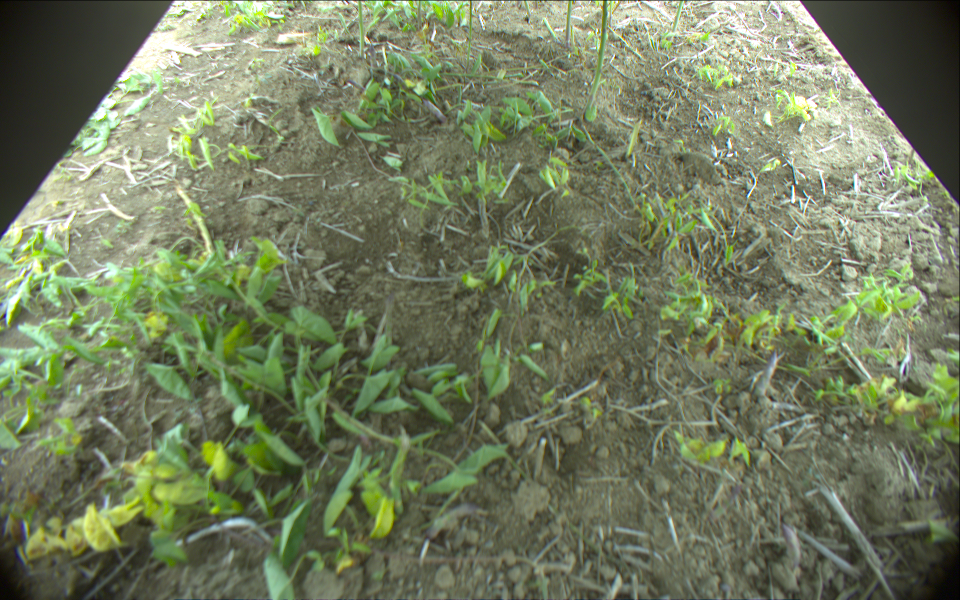aspa: (173, 183, 214, 258), (584, 1, 608, 121), (355, 1, 366, 56), (672, 1, 687, 33), (544, 16, 561, 44), (567, 1, 573, 45), (522, 1, 533, 17)
